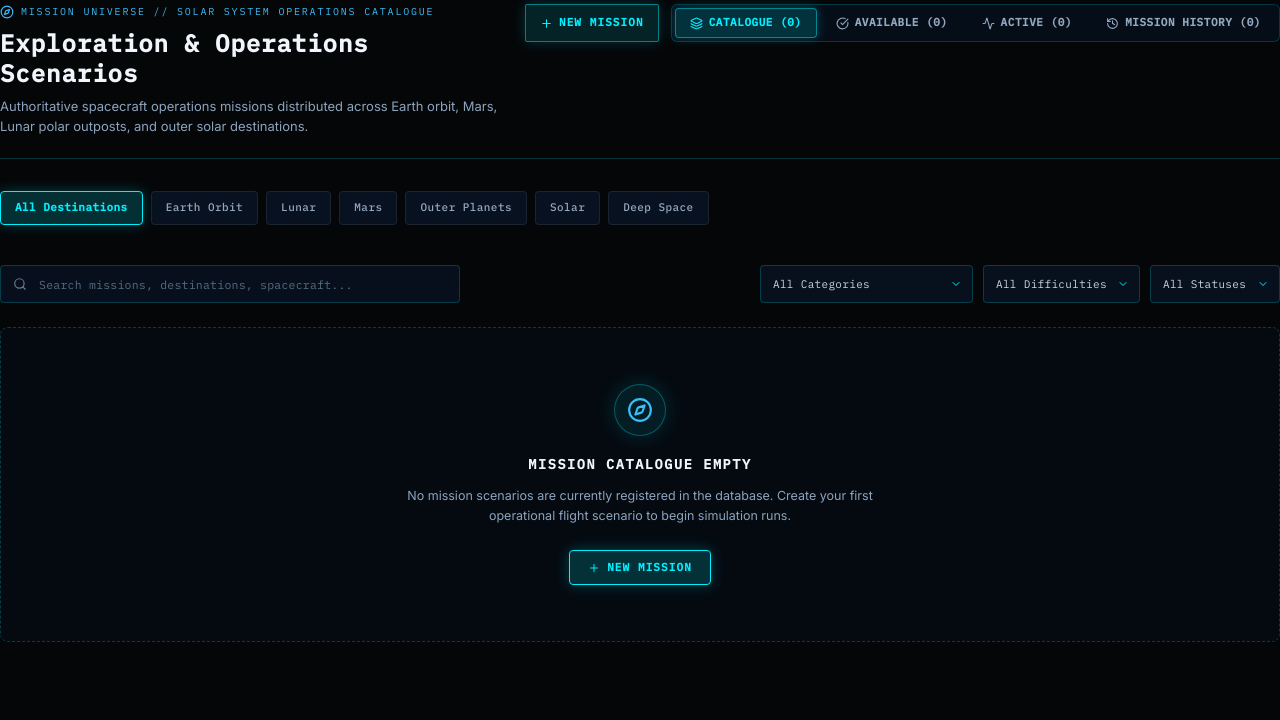
it: ASTRA Mission Control Operations Console › displays authorization failure banner when mission creation is rejected with 403
The width and height of the screenshot is (1280, 720).
Click the button with test id "open-create-mission-modal-btn" at (592, 23), box [525,4,659,42]
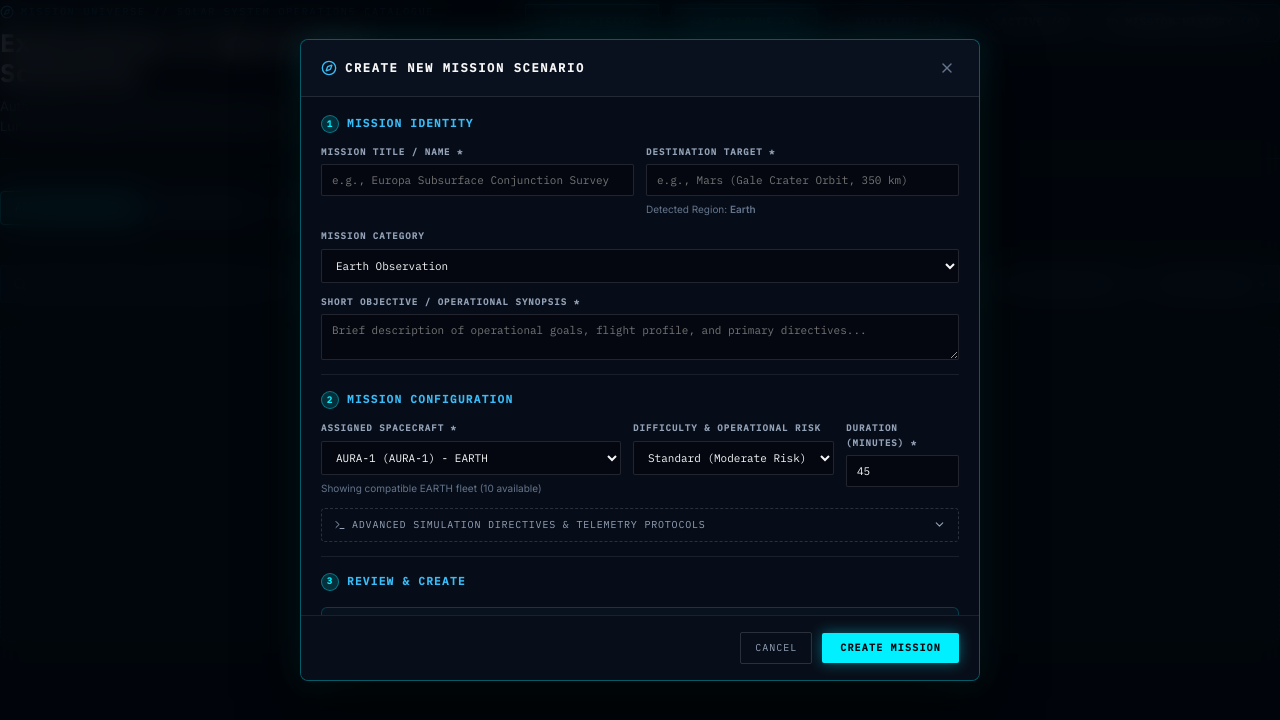
Type "Unauthorized Mission Attempt" into the field labelled "MISSION TITLE / NAME *" at (478, 180), box [321,164,634,196]
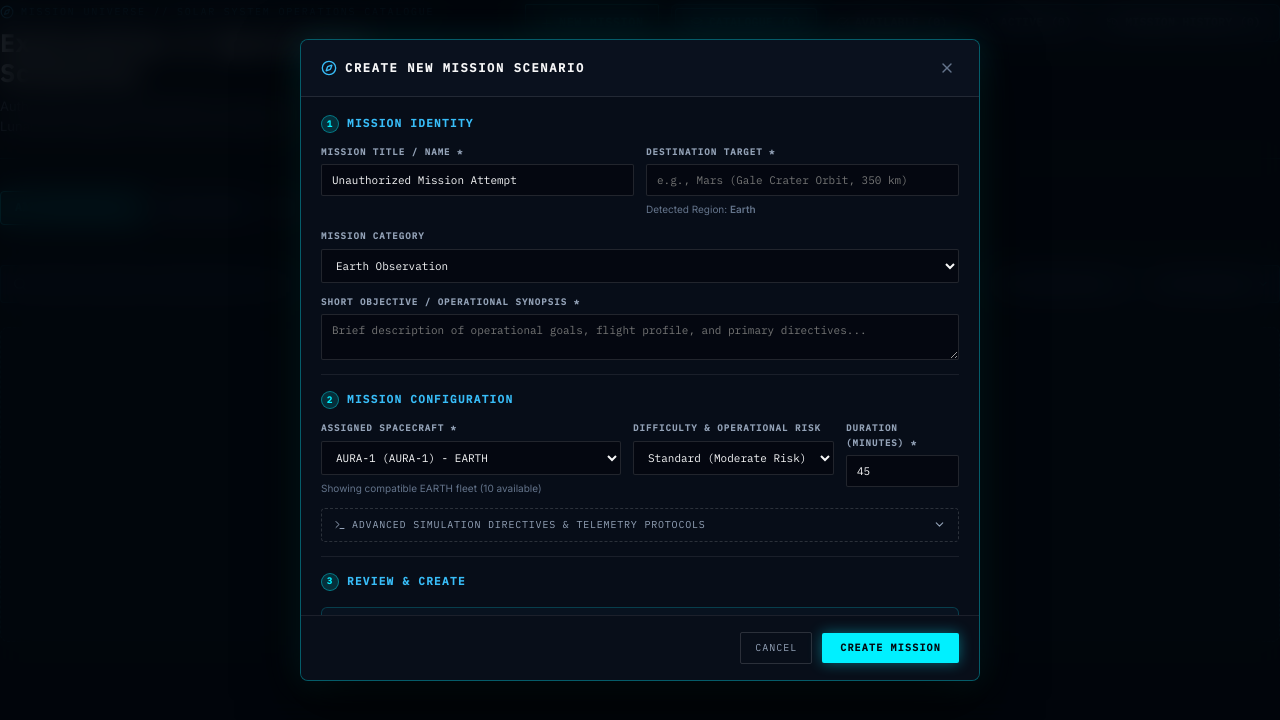
Type "Moon" into the field labelled "DESTINATION TARGET *" at (802, 180), box [646,164,959,196]
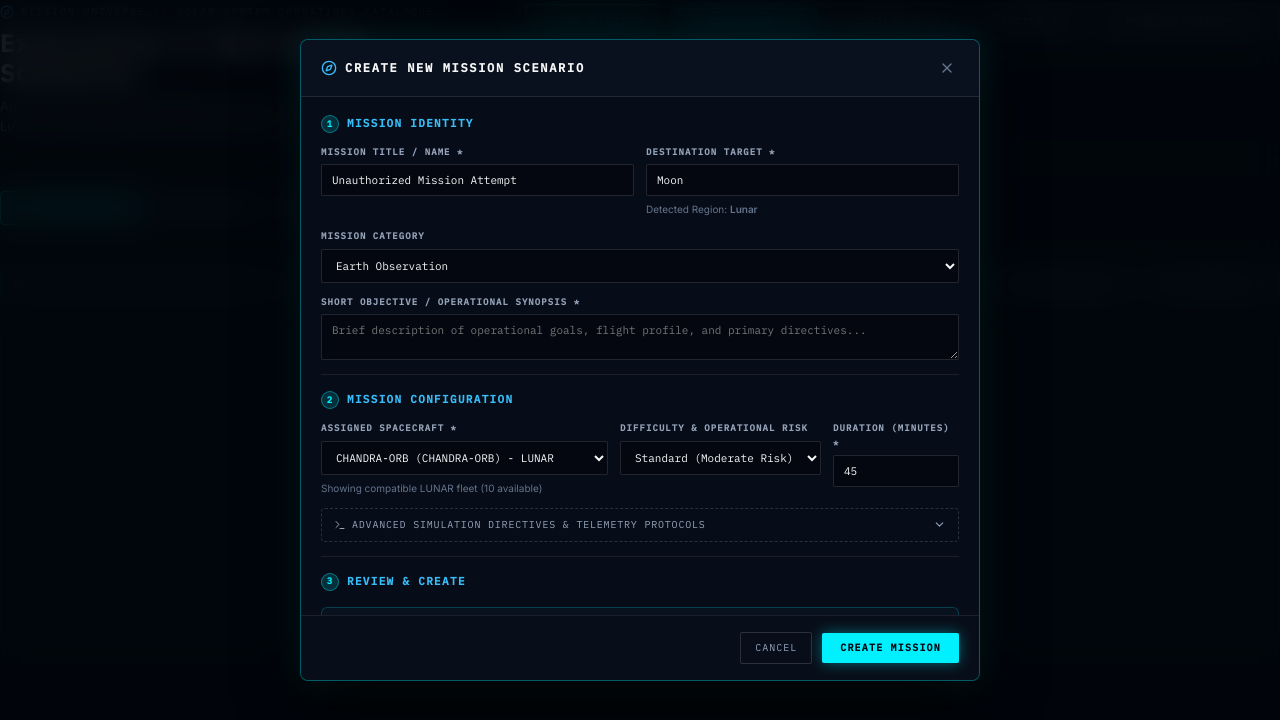
Replace the text in the text box labelled "SHORT OBJECTIVE / OPERATIONAL SYNOPSIS *" with "Testing auth error boundary" at (640, 337), box [321,314,959,360]
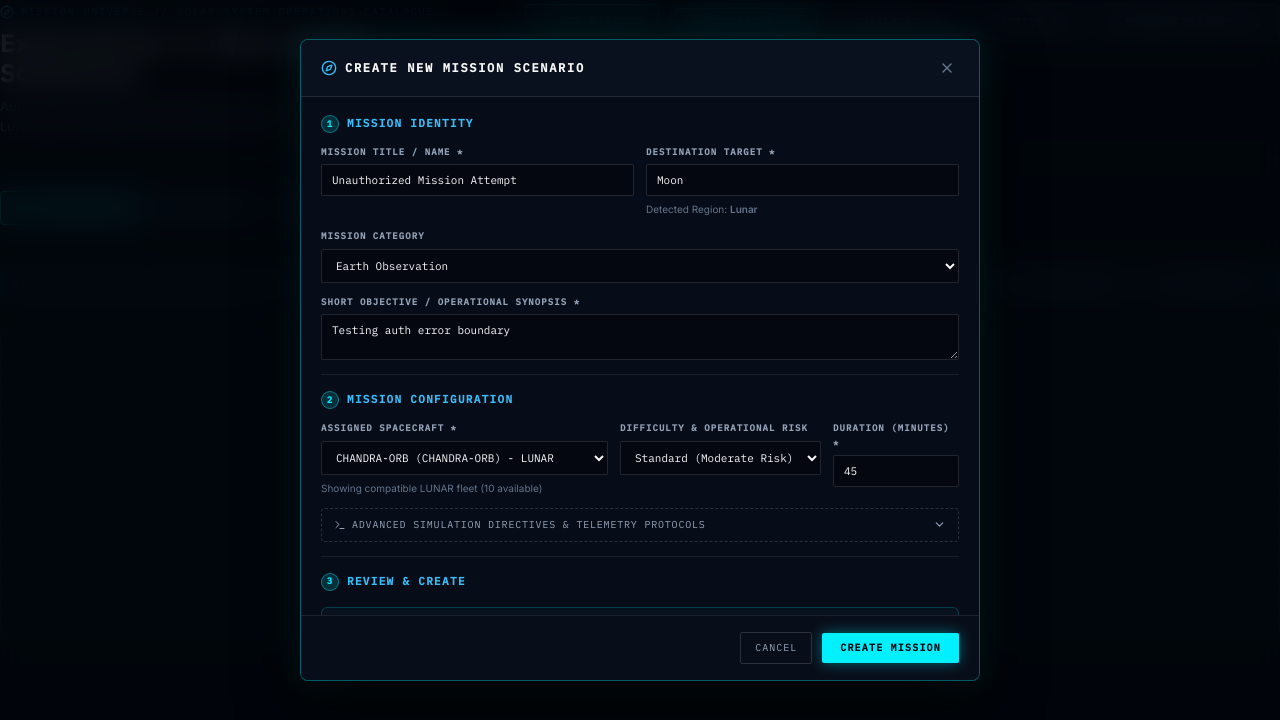
Click the button with test id "submit-create-mission-btn" at (891, 648), box [822,633,959,663]
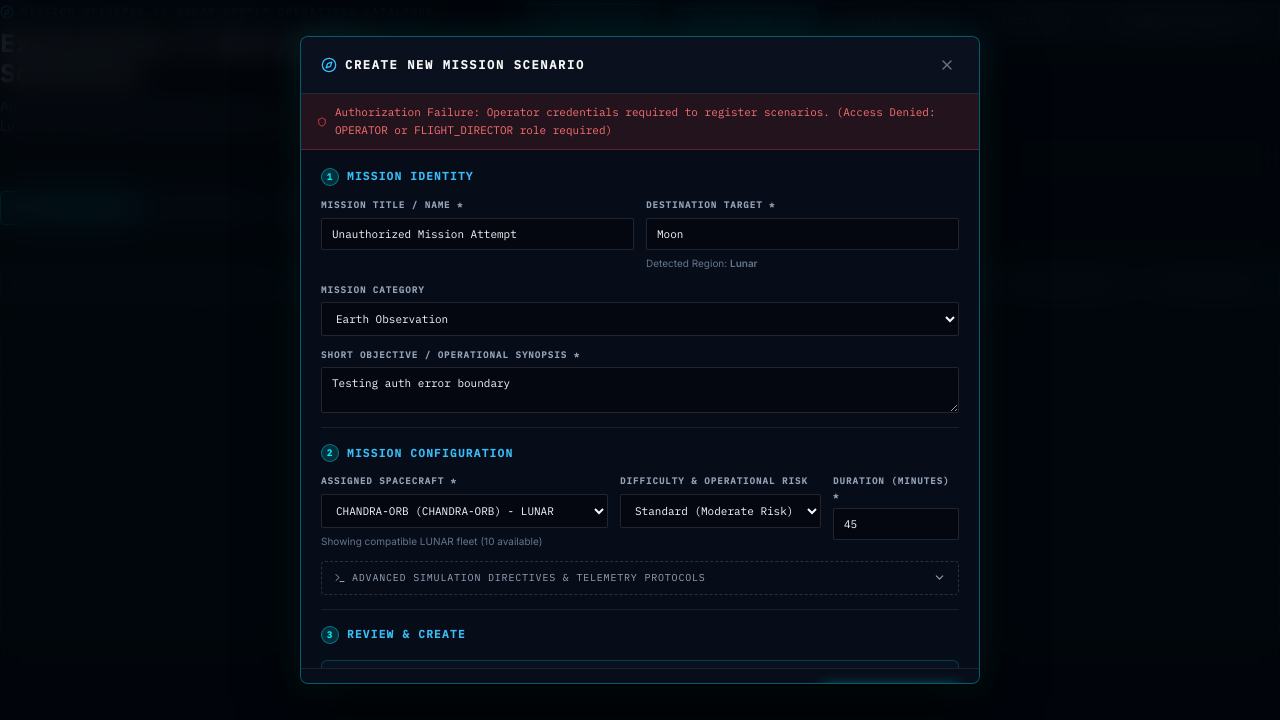
Now the message is shown, box [301,94,979,150]
Now the text "Authorization Failure: Operator credentials required" is shown, box [335,105,936,137]
